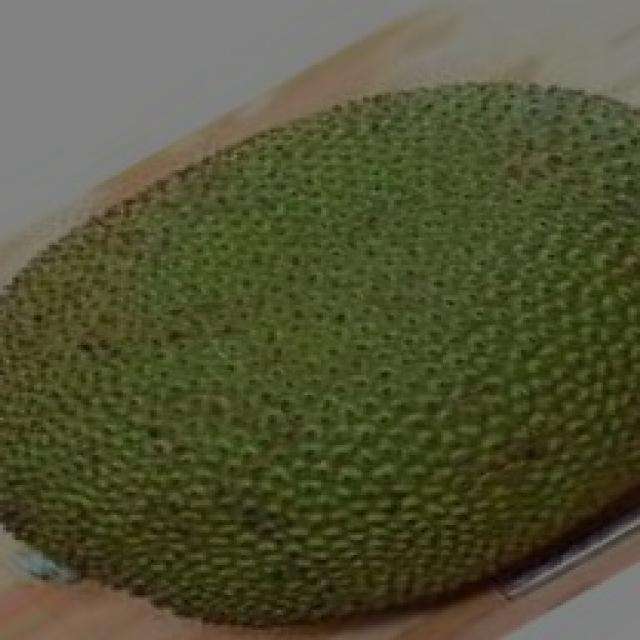Fruit: (237, 40, 640, 370)
